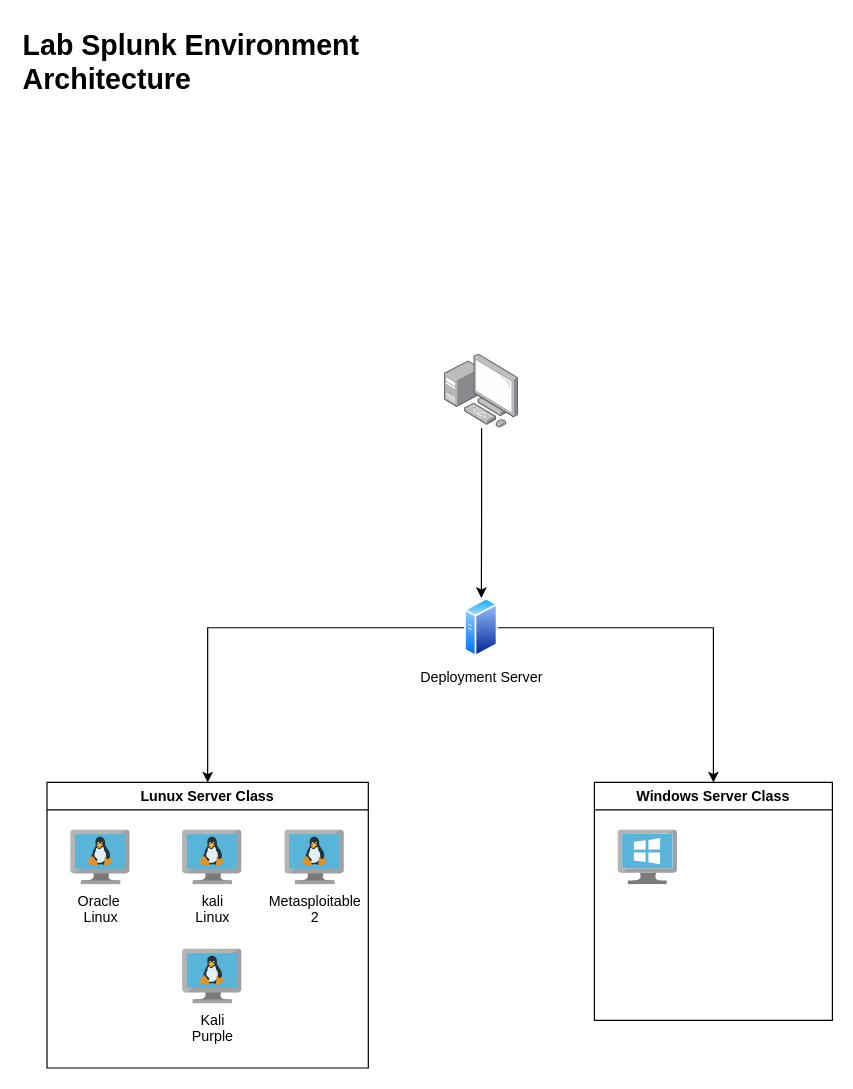
This 853x1089 diagram has some shape labels left out. The shapes that lost their labels are listed below. From the top down, each one's centre as x and y in pixels, then its label:
the point at 481,390: Indexer / Search Head
the point at 647,856: Windows 11
